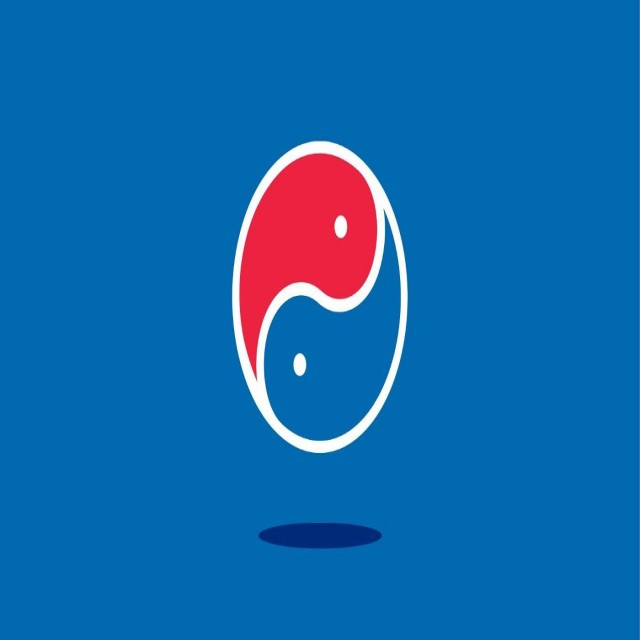pepsi: (229, 135, 412, 457)
